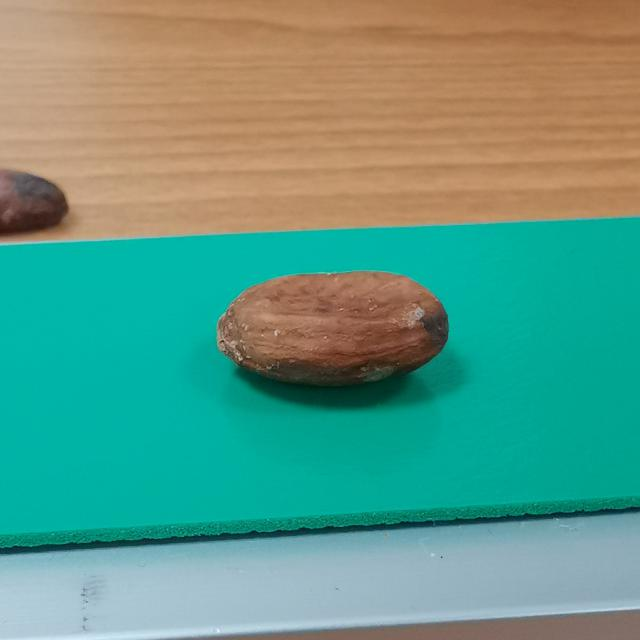Fine_cocoabeans: (152, 237, 512, 422)
